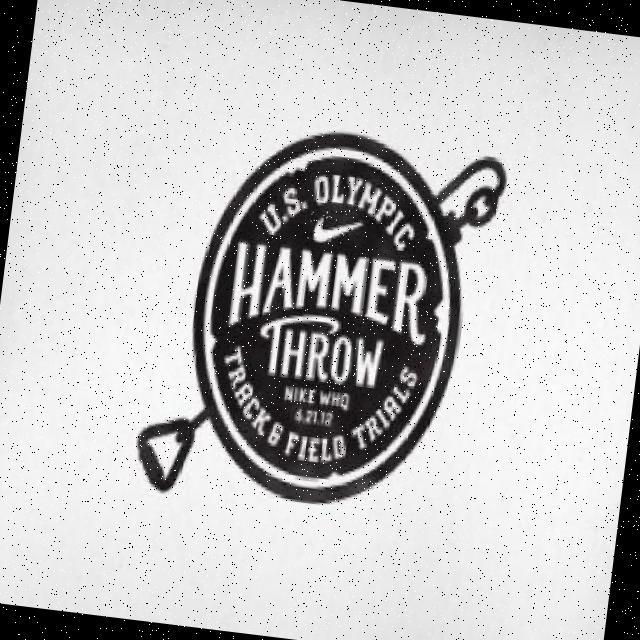Nike: (305, 206, 360, 248)
